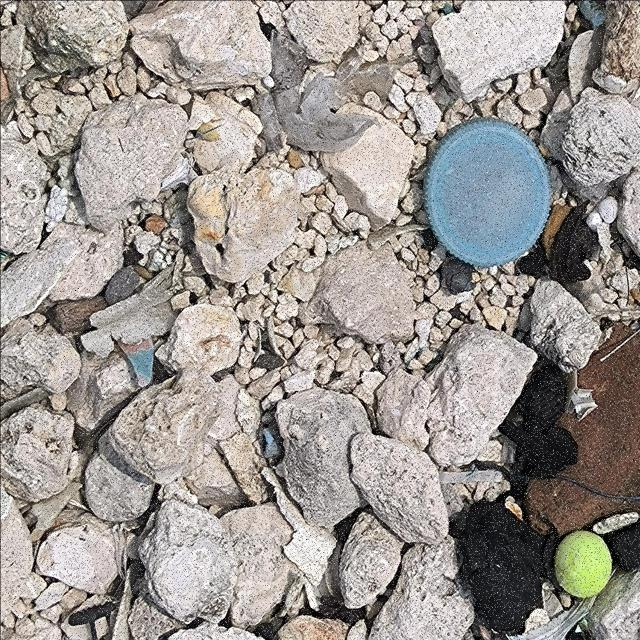plastic_waste: (425, 120, 554, 271)
